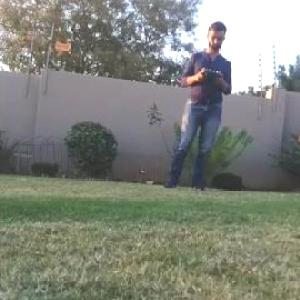follow: (156, 11, 235, 193)
